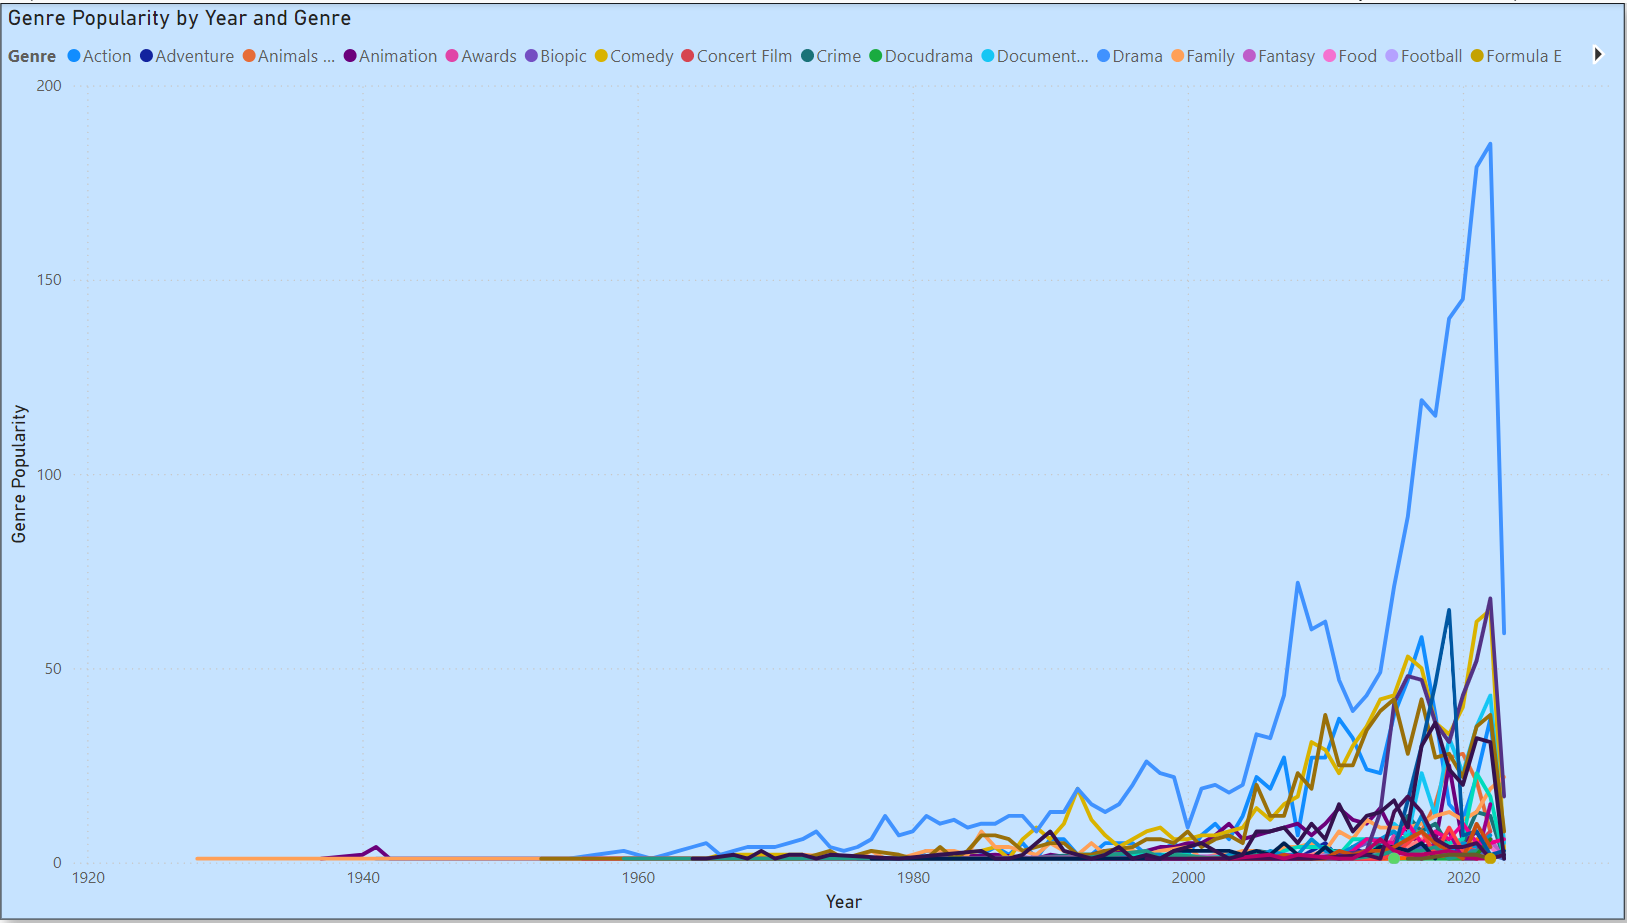

The dashboard page shown, as its layout file describes it:
{"tool":"powerbi","page":{"name":"Count of Movies by Year and Genre","canvas":[1280,720],"ordinal":5},"visuals":[{"type":"areaChart","fields":{"Category":["hotstar csv.genre","hotstar csv.year"],"Y":["CountNonNull(hotstar csv.Title)"]},"box":[10.4,0,1256.1,709.1],"z":0}]}

Visuals, with their boxes in screenshot pixels (x1, y1, x2, y2), scaled from the page's 1280x720 canvas onto the 1627x923 screenshot:
areaChart - hotstar csv.genre x hotstar csv.year: <box>13,0,1610,909</box>
